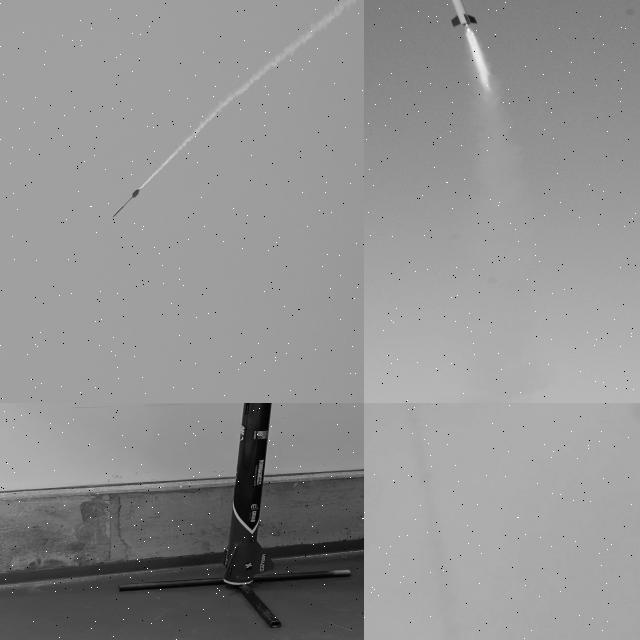Rocket: (220, 403, 275, 585), (440, 0, 479, 27), (112, 188, 141, 218)
